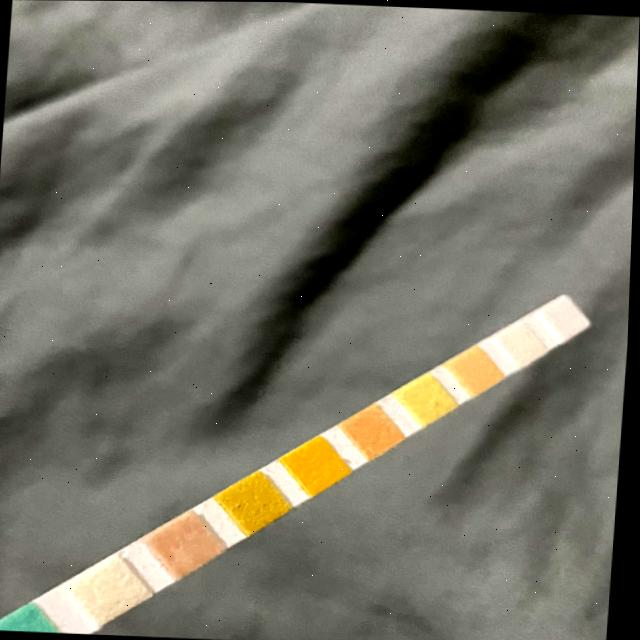Bilirubin: (85, 572, 137, 608)
Blood: (300, 449, 340, 478)
Glucose: (6, 620, 58, 632)
Ketone: (166, 525, 216, 561)
Leukocytes: (551, 305, 579, 326)
Nitrite: (509, 330, 538, 351)
Protein: (412, 382, 447, 411)
SpGravity: (234, 484, 284, 516)
Urobilinogen: (461, 356, 493, 381)
pH: (358, 415, 392, 444)
